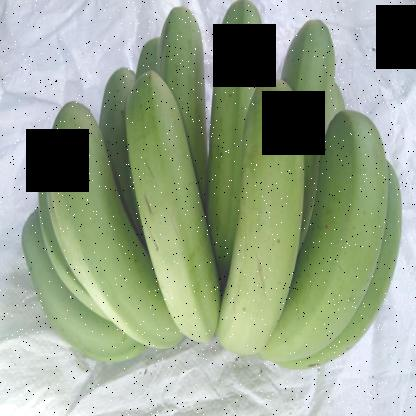freshunripe: (209, 77, 314, 367), (284, 104, 392, 373), (120, 60, 218, 350), (43, 124, 131, 355), (201, 1, 275, 258), (147, 1, 211, 155), (292, 9, 348, 140), (96, 42, 140, 172)
